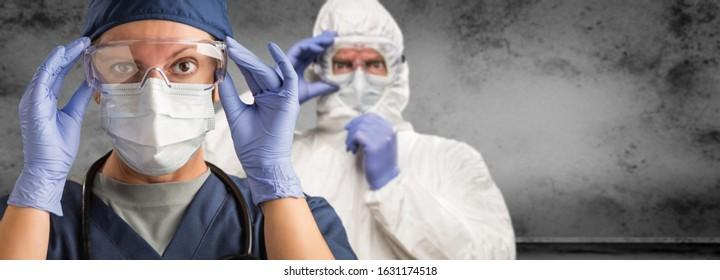gloves: (6, 35, 95, 219), (218, 39, 306, 203), (343, 114, 403, 191), (286, 32, 345, 104)
